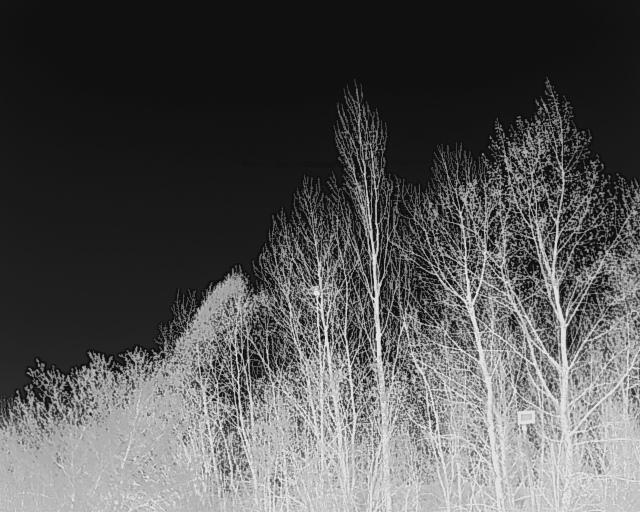drone: (297, 282, 337, 301)
